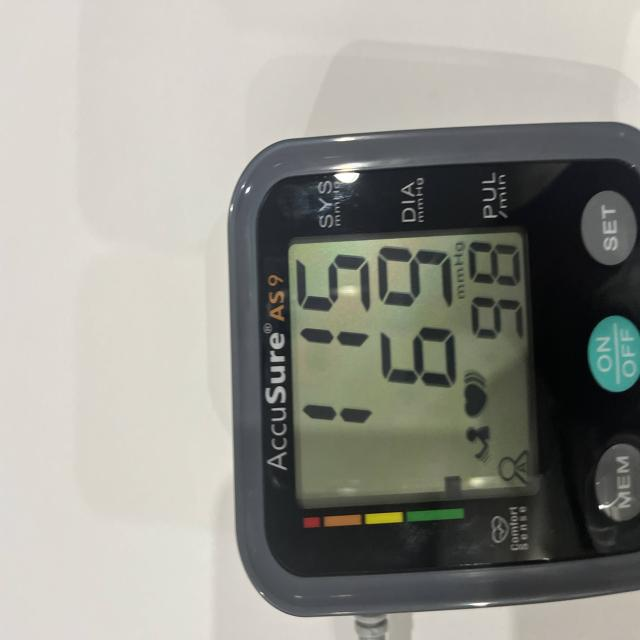bp: (223, 45, 640, 624)
